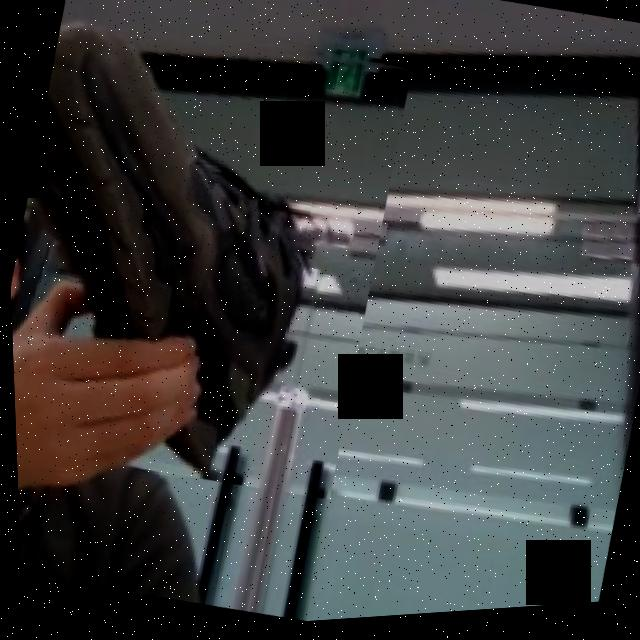shoe: (0, 0, 426, 519)
